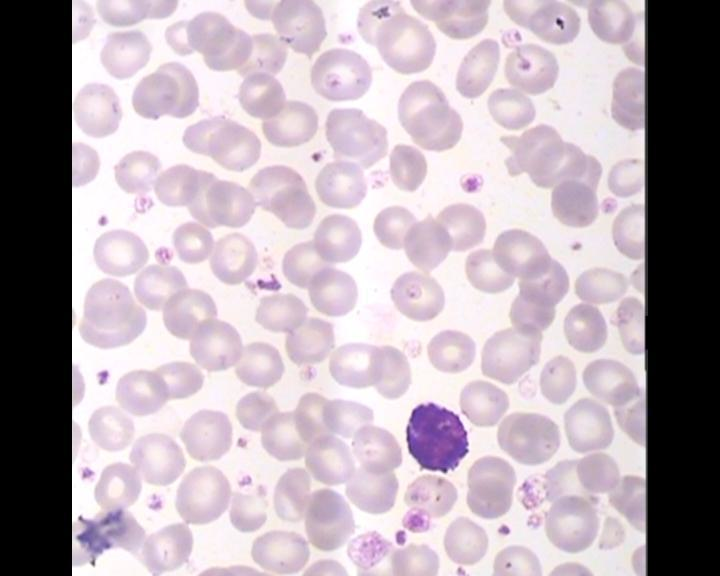baso: (403, 398, 478, 475)
